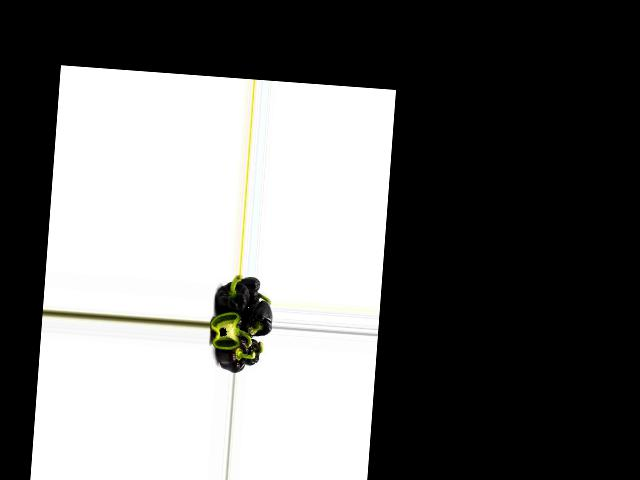bell_pepper: (217, 331, 249, 372)
